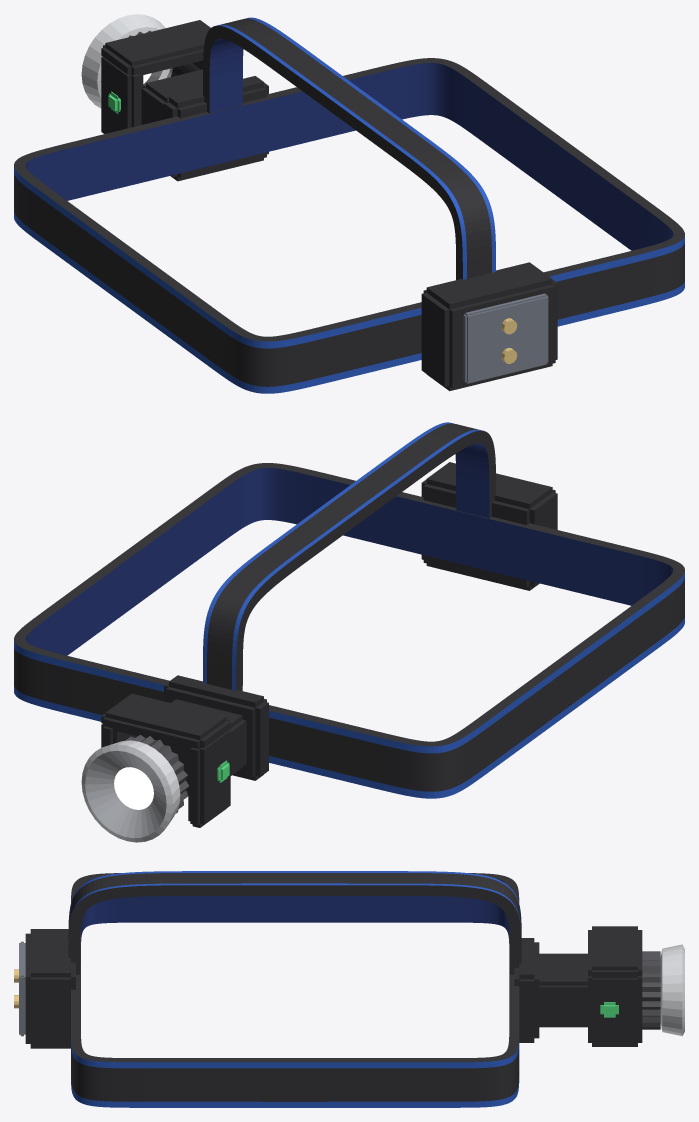
File: headlamp.glb
3 views of the same model, one above another, from view 1: azimuth 30°, elevation 25°; view 2: azimuth 150°, elevation 25°; view 3: azimuth 270°, elevation 25° (orthographic). The views are drawn at different scales.
Visible parts, largest first — view 1: head; view 2: head; view 3: head.
Boxes of the visible parts, left/top/right/bottom form: head: left=14, top=14, right=684, bottom=393; head: left=14, top=422, right=684, bottom=842; head: left=14, top=871, right=684, bottom=1107.
Size of the model in its own units: 0.536 by 0.203 by 0.802.
